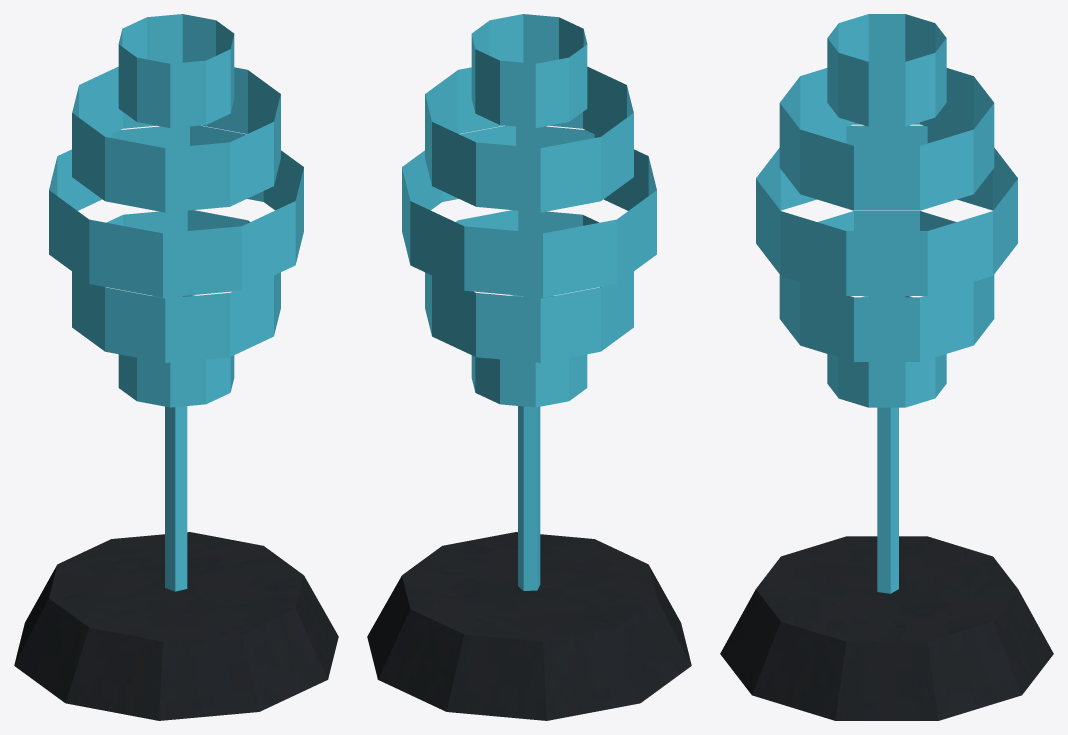
Rendered from hologram_globe_01.glb.
3 renders of one model, left to right at view 1: azimuth 30°, elevation 25°; view 2: azimuth 150°, elevation 25°; view 3: azimuth 270°, elevation 25°, orthographic.
Parts seen in each view (by area): view 1: hologram_globe_01; view 2: hologram_globe_01; view 3: hologram_globe_01.
Boxes of the visible parts, box(x1,y1,x2,y2) form: hologram_globe_01: box(14, 14, 338, 720); hologram_globe_01: box(367, 14, 691, 720); hologram_globe_01: box(720, 14, 1053, 720).
Bounding box in the file's own units: 0.5326 × 1.14 × 0.56.
2 materials, 2 textured.
